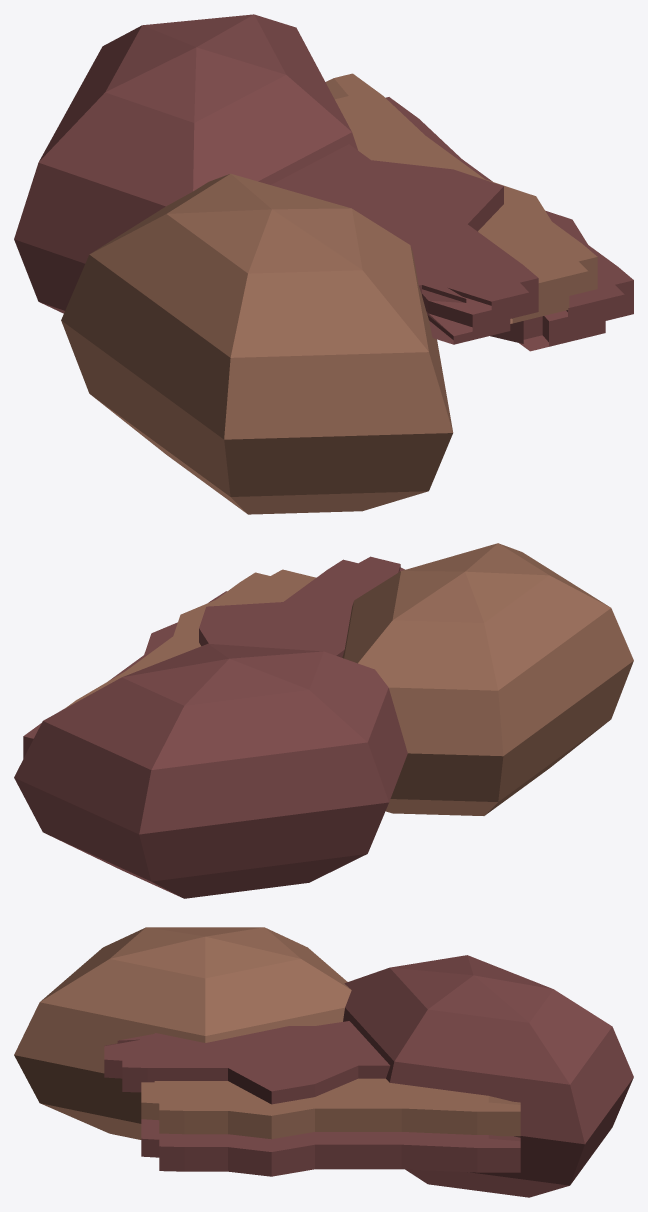
The model's file is west_rock03.fbx.
The picture shows the model from 3 angles, top to bottom: view 1: azimuth 30°, elevation 25°; view 2: azimuth 150°, elevation 25°; view 3: azimuth 270°, elevation 25°; orthographic projection. The views are drawn at different scales.
Visible parts, largest first — view 1: pCube4; view 2: pCube4; view 3: pCube4.
Boxes of the visible parts, x1,y1,x2,y2 form: pCube4: [14, 14, 633, 514]; pCube4: [14, 543, 633, 898]; pCube4: [14, 927, 633, 1197].
Bounding box in the file's own units: 7.08 × 3.96 × 11.02.
